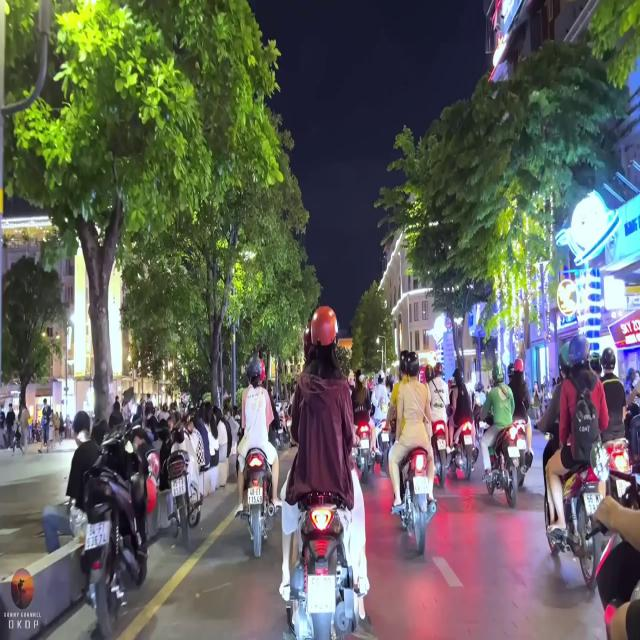bien_trang: (84, 517, 110, 550), (248, 488, 266, 512), (169, 476, 187, 496)
